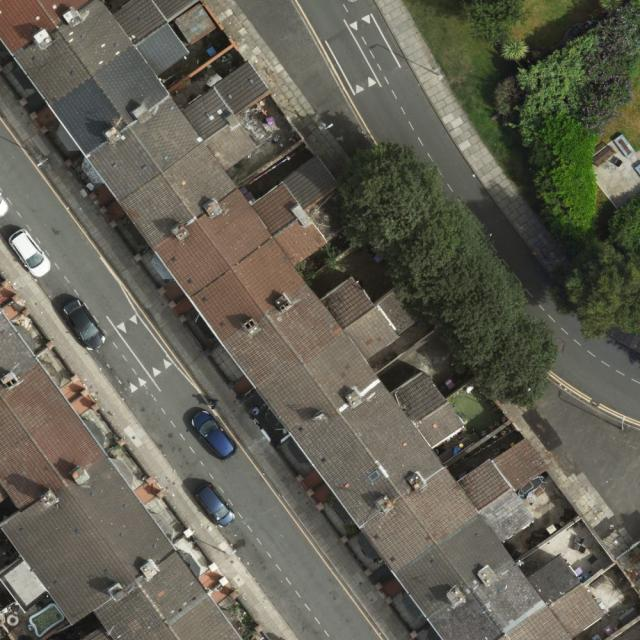roof: (0, 0, 606, 640), (0, 310, 246, 640)
skylight: (365, 470, 381, 482)
